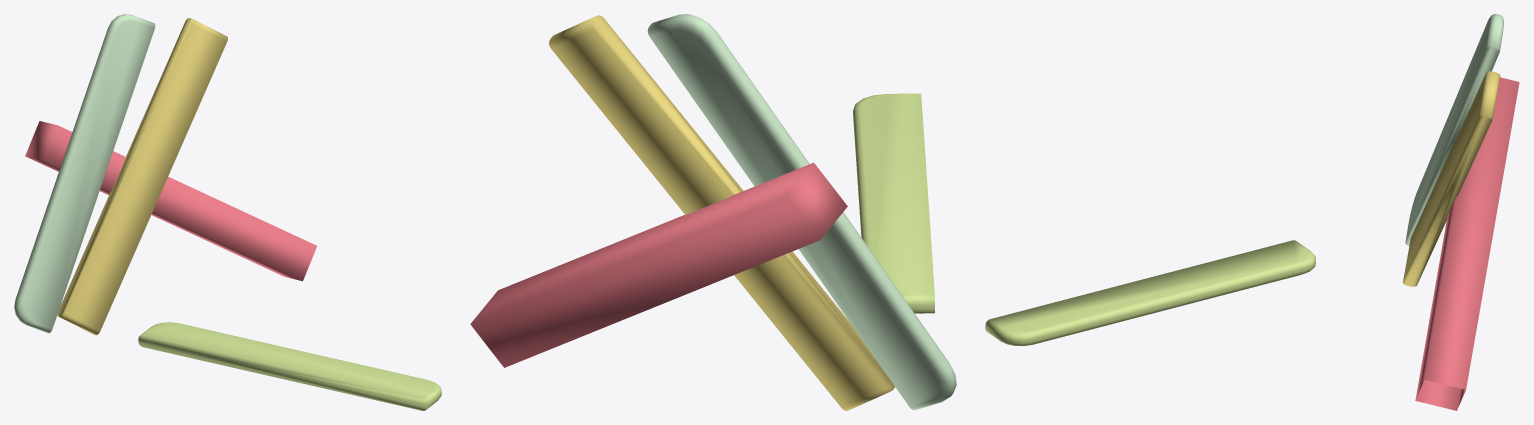
File: Schild2.fbx
3 renders of one model, left to right at view 1: azimuth 30°, elevation 25°; view 2: azimuth 150°, elevation 25°; view 3: azimuth 270°, elevation 25°, orthographic. The views are drawn at different scales.
Parts seen in each view (by area): view 1: Plane.006; view 2: Plane.006; view 3: Plane.006.
Boxes of the visible parts, box(x1,y1,x2,y2) form: Plane.006: box(14, 14, 441, 410); Plane.006: box(470, 14, 956, 410); Plane.006: box(985, 14, 1519, 410).
Bounding box in the file's own units: 214 × 191 × 291.
